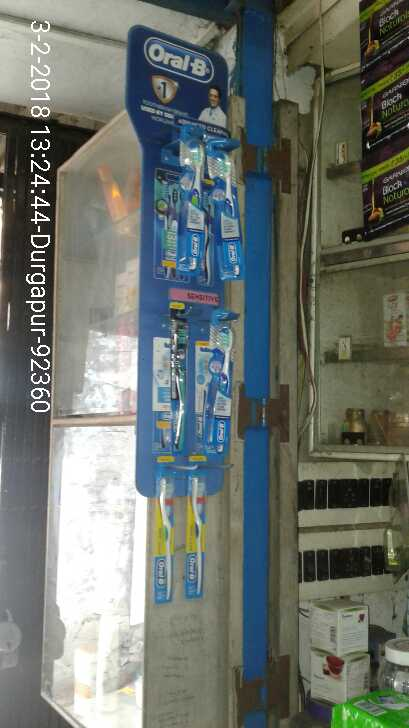oralb: (207, 145, 250, 283), (171, 129, 207, 283), (198, 318, 235, 454), (186, 463, 214, 603), (166, 309, 191, 458), (153, 454, 174, 603)
